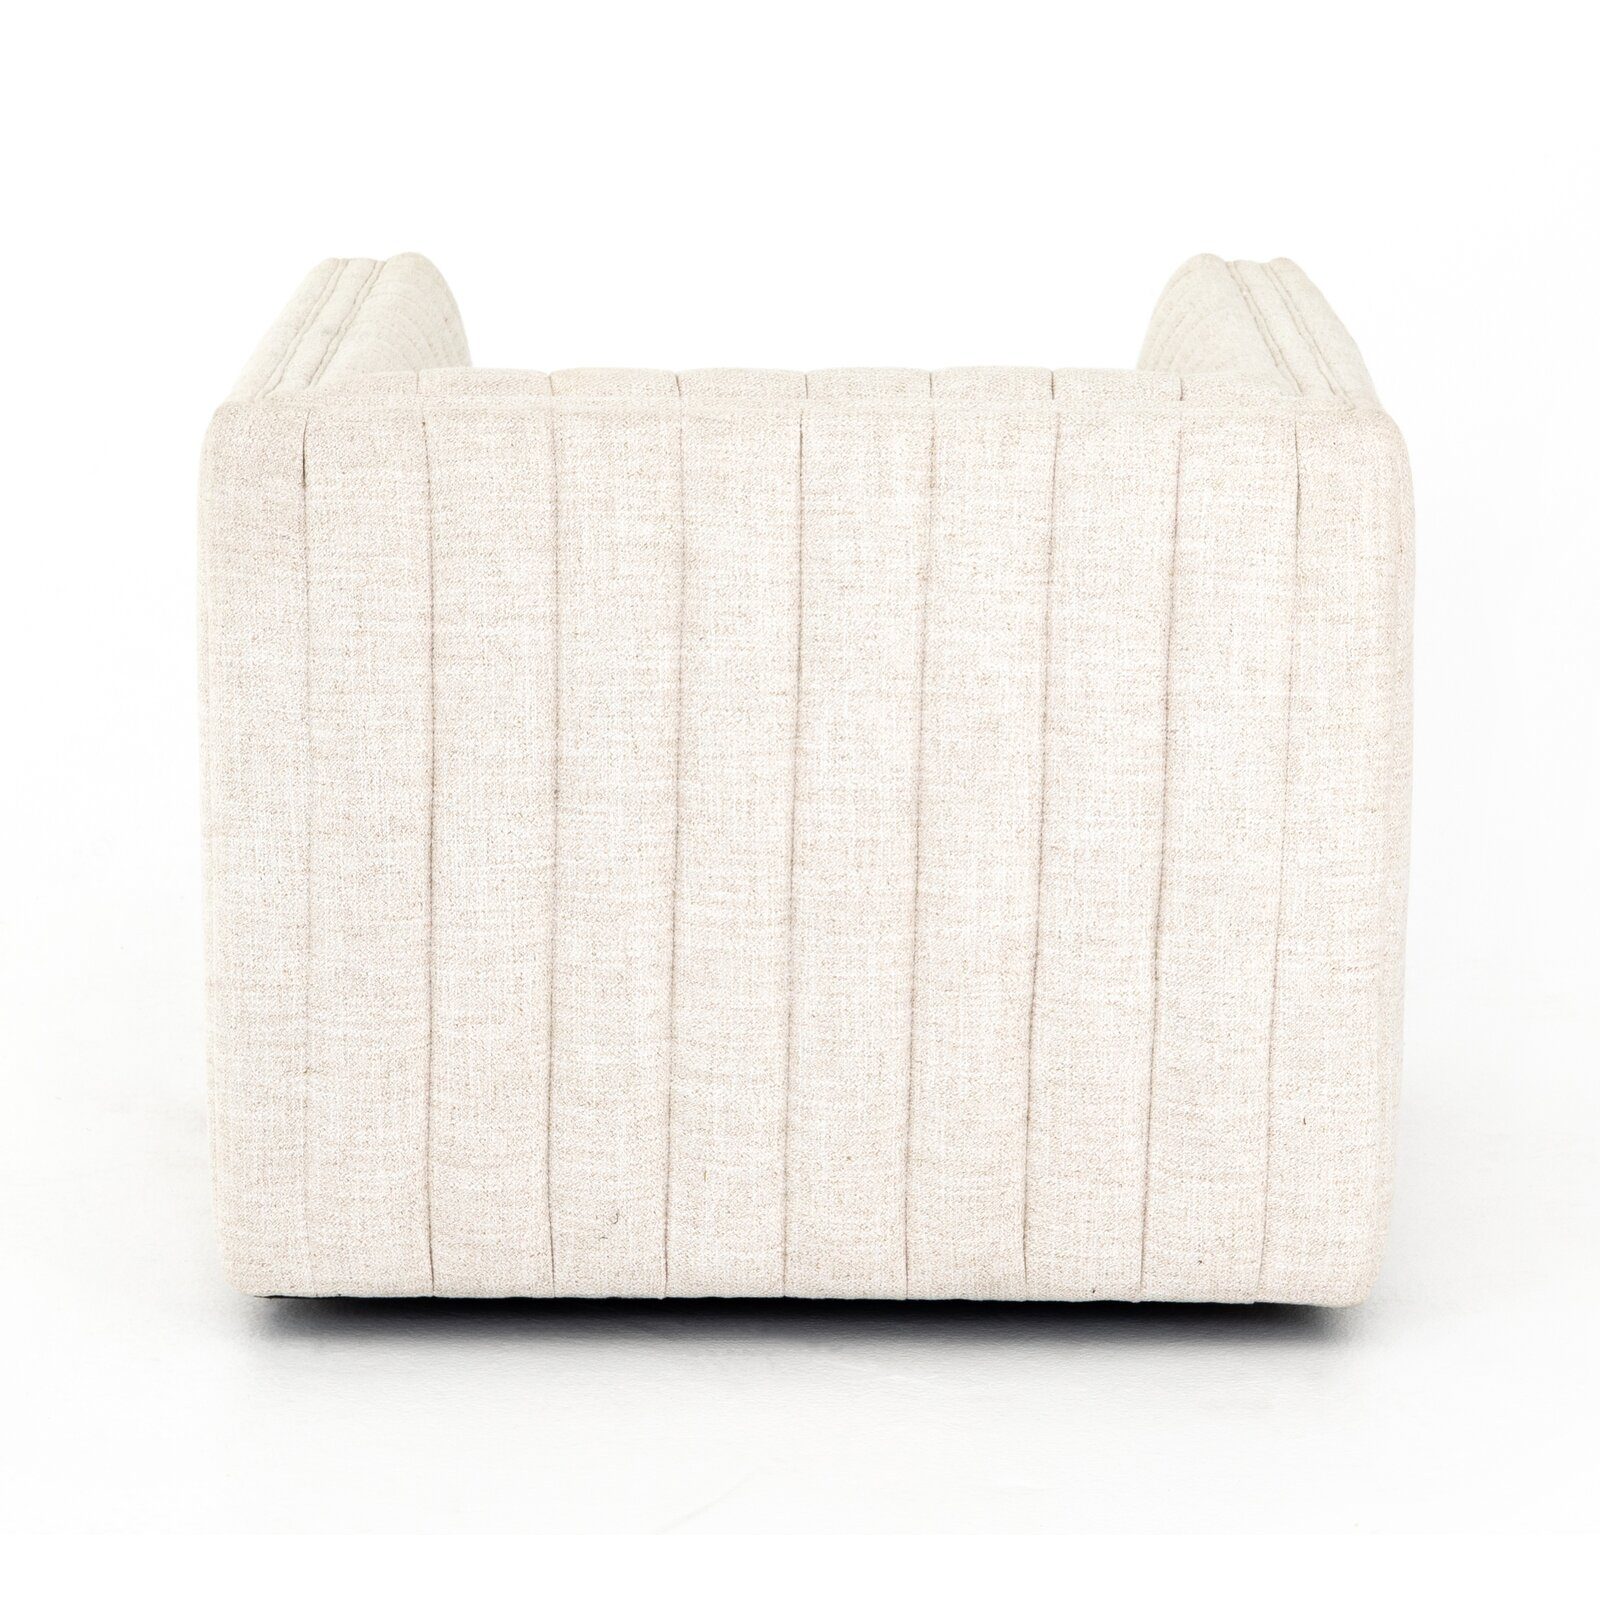obstacle: (201, 255, 1410, 1304)
